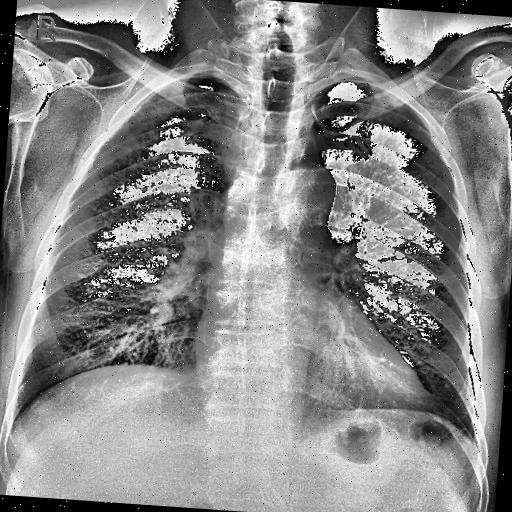0- Aortic enlargement: (277, 160, 339, 228), (273, 160, 338, 222)
11- Pleural thickening: (103, 74, 174, 136), (370, 81, 438, 137), (370, 80, 416, 117)
13- Pulmonary fibrosis: (112, 92, 180, 201), (108, 100, 174, 211), (110, 102, 170, 194), (366, 262, 462, 300), (380, 267, 466, 305)
3- Cardiomegaly: (188, 310, 434, 414)
